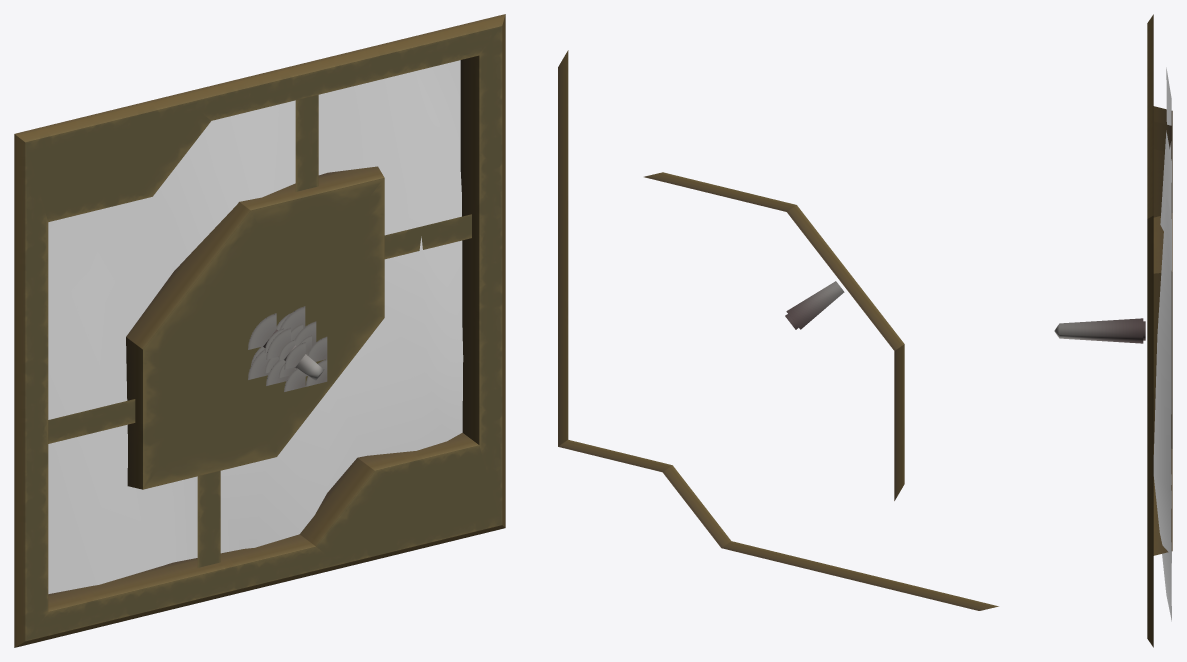
File: shocktrench_3x3.glb
3 renders of one model, left to right at view 1: azimuth 30°, elevation 25°; view 2: azimuth 150°, elevation 25°; view 3: azimuth 270°, elevation 25°, orthographic. The views are drawn at different scales.
Parts seen in each view (by area): view 1: shock_trenches.shocktrench_3x3-MeshNodes["shock_trench_3x3"], shock_trenches.shocktrench_3x3-MeshNodes["shock_trench_3x3_w, shock_trenches.transformer-Mesh[0] (×2); view 2: shock_trenches.shocktrench_3x3-MeshNodes["shock_trench_3x3"], shock_trenches.transformer-Mesh[1]; view 3: shock_trenches.shocktrench_3x3-MeshNodes["shock_trench_3x3"], shock_trenches.shocktrench_3x3-MeshNodes["shock_trench_3x3_w, shock_trenches.transformer-Mesh[1].
Boxes of the visible parts, x1=… form: shock_trenches.shocktrench_3x3-MeshNodes["shock_trench_3x3"]: x1=14, y1=14, x2=505, y2=647; shock_trenches.shocktrench_3x3-MeshNodes["shock_trench_3x3_w: x1=48, y1=60, x2=463, y2=593; shock_trenches.transformer-Mesh[0] (×2): x1=248, y1=306, x2=327, y2=391; shock_trenches.shocktrench_3x3-MeshNodes["shock_trench_3x3"]: x1=558, y1=50, x2=998, y2=610; shock_trenches.transformer-Mesh[1]: x1=786, y1=281, x2=844, y2=329; shock_trenches.shocktrench_3x3-MeshNodes["shock_trench_3x3"]: x1=1147, y1=14, x2=1172, y2=647; shock_trenches.shocktrench_3x3-MeshNodes["shock_trench_3x3_w: x1=1153, y1=67, x2=1171, y2=621; shock_trenches.transformer-Mesh[1]: x1=1054, y1=318, x2=1143, y2=343.
Size of the model in its own units: 3.01 by 3.01 by 0.747.
4 materials, 3 textured.
